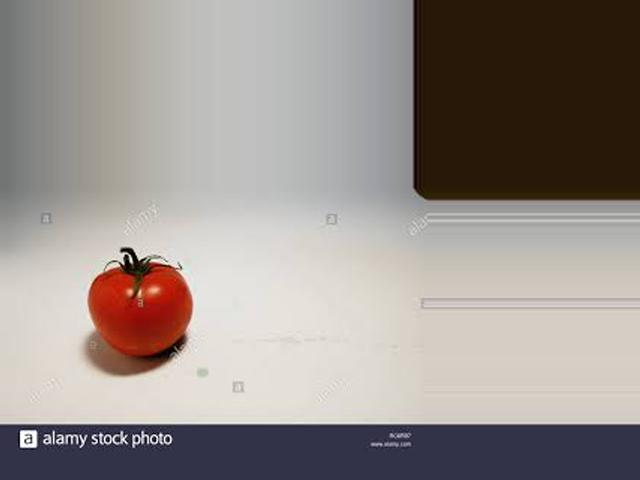tomato: (89, 264, 192, 356)
